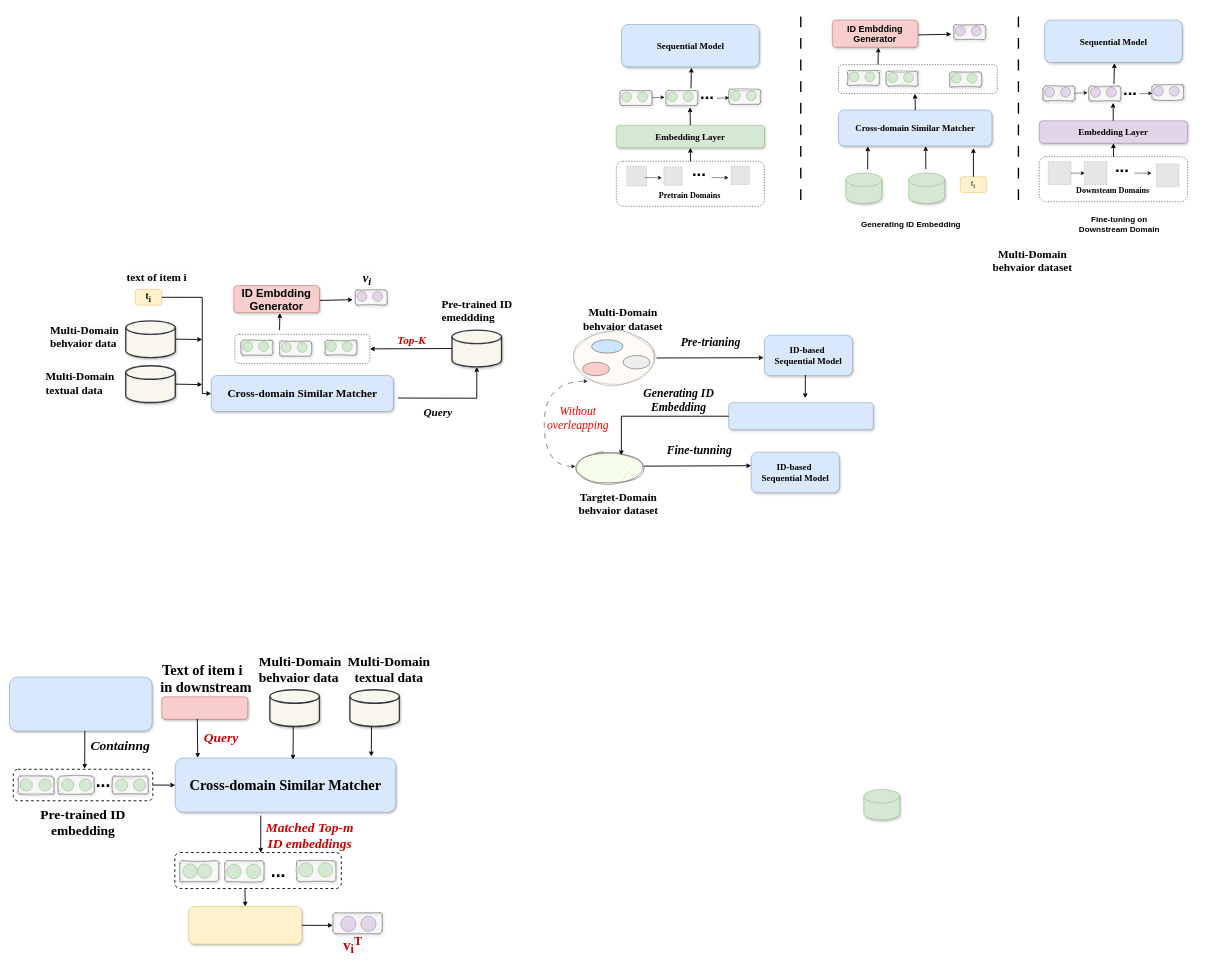
The diagram is 1230 pixels wide and 964 high, and some of its shapes have lost their labels. Grey dashed boxes stand in for pictures. Each missing label, with the centre of its shape:
"Cross-domain Similar Matcher (Server as an arch )" belongs at pixel 801 416.
"ID Embedding Generator" belongs at pixel 246 925.
"ID-based Sequential Model ( Pre-trained )" belongs at pixel 81 704.
"t i T" belongs at pixel 205 708.
